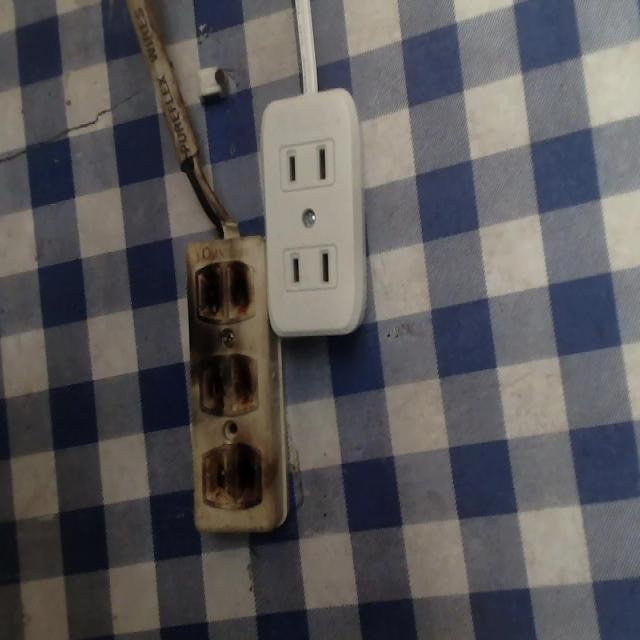-: (197, 438, 266, 518), (188, 256, 260, 331), (190, 348, 262, 419)
